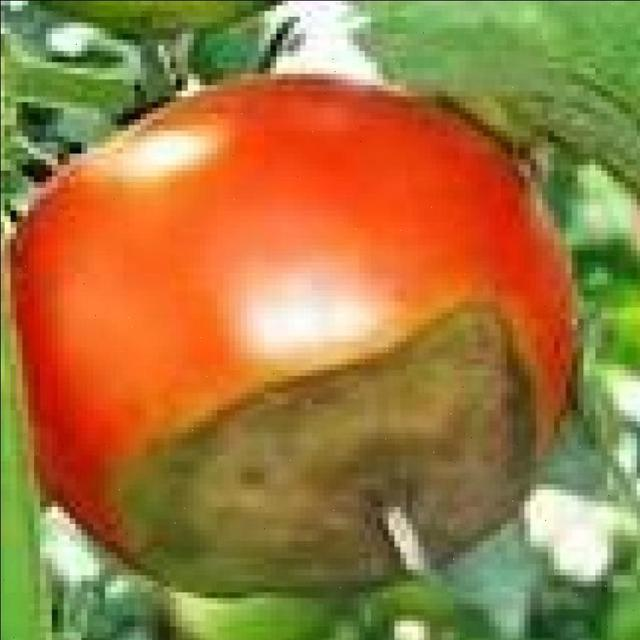Blossom End Rot Fruit: (87, 191, 367, 396)
